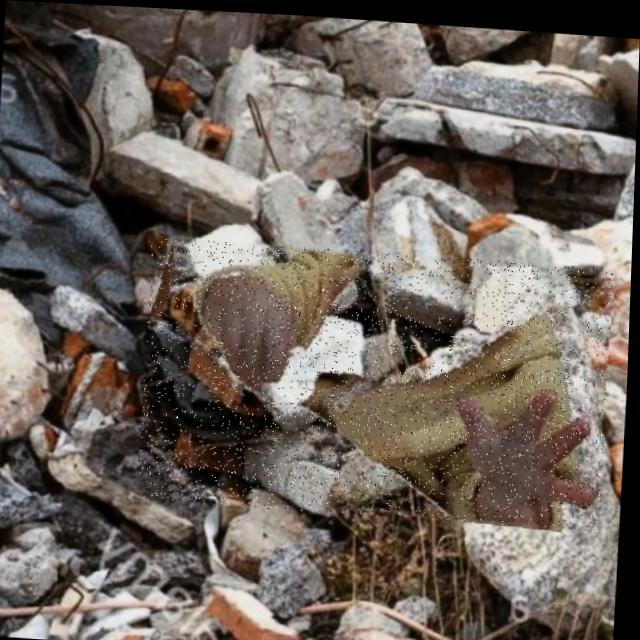Person in Rubble: (140, 234, 615, 524)
